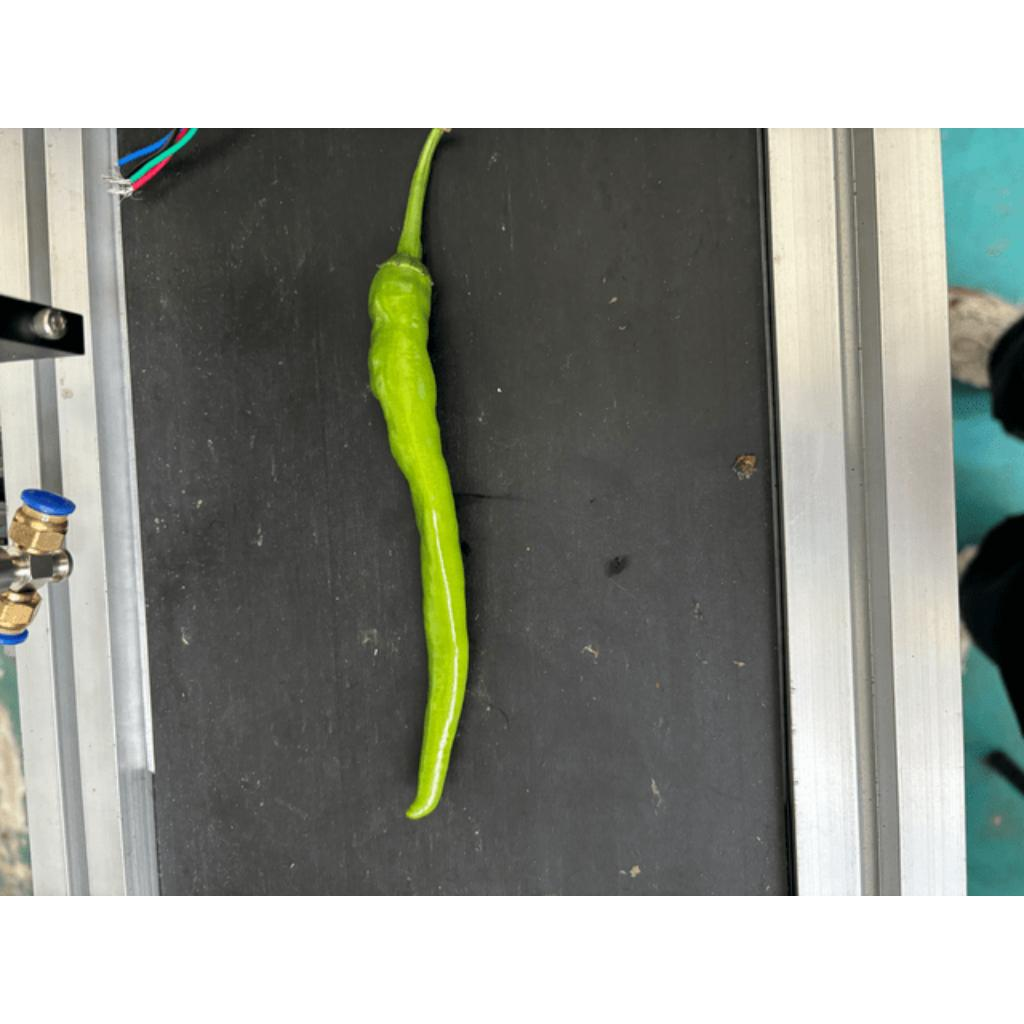chili: (364, 248, 473, 823)
